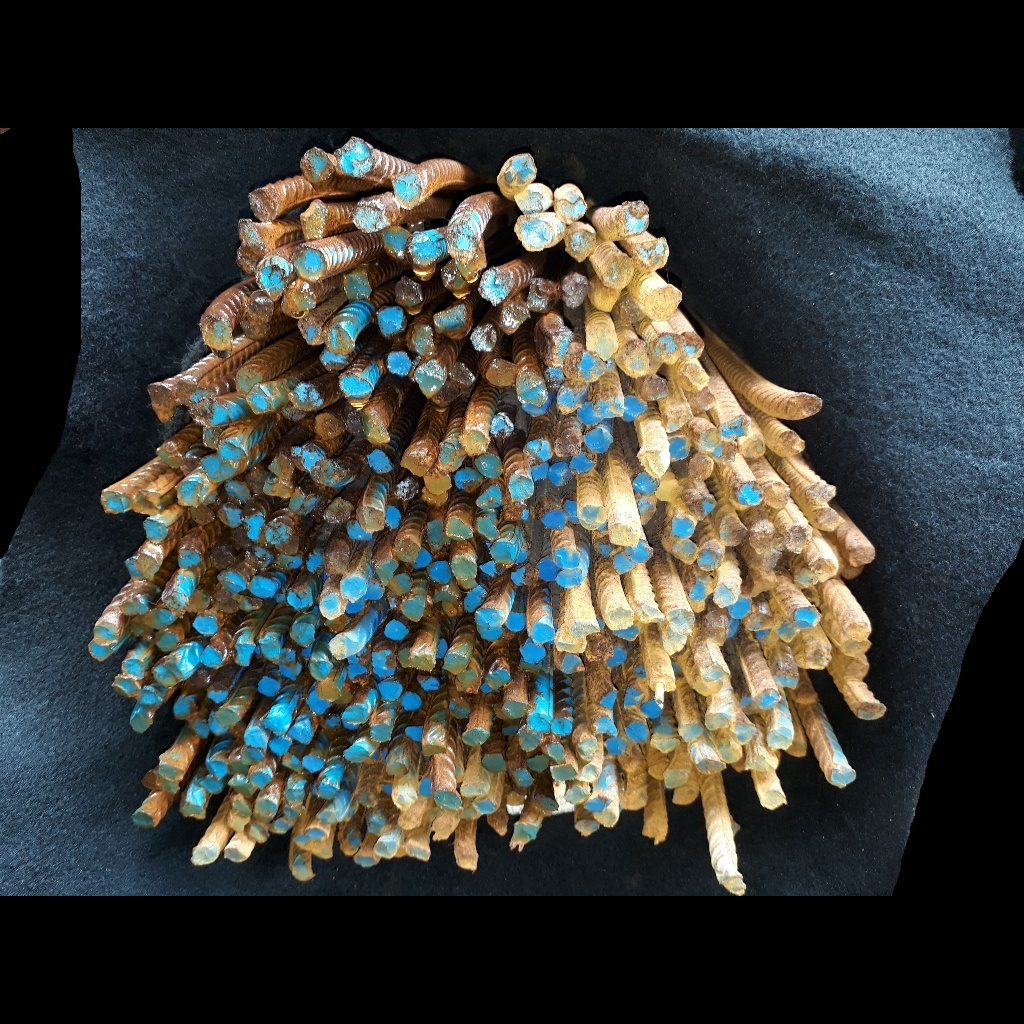dipstick: (513, 214, 554, 252), (335, 137, 373, 176), (291, 246, 329, 283), (351, 199, 390, 232), (235, 218, 268, 257), (478, 266, 510, 306), (405, 230, 440, 266), (414, 361, 448, 398), (564, 224, 597, 262), (390, 173, 423, 211), (298, 199, 328, 240), (147, 382, 176, 423), (602, 253, 634, 290), (513, 183, 549, 215), (256, 265, 288, 301), (399, 445, 436, 476), (289, 381, 326, 412), (795, 641, 833, 671), (249, 184, 279, 222), (563, 352, 602, 381), (636, 239, 670, 272), (300, 147, 334, 180), (547, 327, 575, 366), (310, 459, 349, 487), (650, 332, 684, 364), (455, 250, 487, 284), (498, 304, 531, 336), (433, 303, 467, 334), (359, 410, 390, 444), (382, 224, 410, 261), (652, 286, 682, 320), (525, 278, 554, 313), (717, 514, 748, 546), (504, 153, 537, 183), (440, 261, 470, 294), (636, 450, 670, 479), (199, 455, 234, 483), (289, 486, 320, 517), (375, 305, 405, 337), (748, 520, 777, 553), (435, 438, 464, 471), (284, 282, 318, 310), (202, 320, 232, 351), (585, 332, 618, 360), (702, 611, 729, 645), (562, 272, 588, 307), (338, 373, 373, 399), (325, 325, 355, 355), (296, 316, 325, 347), (246, 384, 274, 416), (591, 281, 620, 311), (559, 191, 588, 221), (247, 293, 276, 323), (583, 635, 614, 663), (485, 359, 517, 386), (322, 497, 354, 524), (718, 415, 751, 441), (679, 362, 708, 391), (394, 277, 423, 306), (620, 203, 650, 231), (616, 295, 646, 323), (446, 233, 476, 261), (217, 439, 247, 467), (624, 340, 650, 372), (263, 475, 297, 499), (784, 525, 812, 554), (668, 608, 696, 637), (448, 362, 477, 390), (344, 272, 373, 300), (338, 576, 367, 604), (747, 546, 779, 571), (470, 324, 498, 352), (554, 428, 581, 457), (517, 381, 547, 407), (583, 428, 614, 453), (328, 635, 359, 660), (151, 660, 182, 685), (763, 482, 791, 509), (451, 553, 478, 581), (299, 443, 326, 471), (364, 807, 391, 835), (793, 391, 822, 417), (459, 430, 488, 456), (687, 494, 717, 519), (99, 490, 130, 514), (813, 508, 845, 531), (411, 324, 434, 356), (319, 348, 351, 371), (313, 413, 345, 436), (672, 539, 699, 566), (579, 504, 606, 531), (319, 592, 347, 618), (187, 398, 213, 426), (155, 443, 183, 469), (131, 489, 159, 515), (430, 382, 459, 407), (423, 470, 452, 495), (356, 507, 385, 532), (337, 827, 362, 856), (217, 568, 247, 592), (806, 480, 837, 503), (661, 409, 692, 432), (247, 576, 279, 598), (679, 333, 706, 359), (641, 375, 668, 401), (777, 430, 805, 455), (235, 248, 260, 276), (603, 607, 632, 631), (609, 522, 638, 546), (285, 585, 314, 609), (633, 603, 666, 624), (622, 541, 653, 563), (854, 701, 888, 721), (642, 820, 668, 846), (577, 400, 604, 425), (308, 687, 333, 714), (268, 453, 295, 478), (175, 481, 200, 508), (696, 547, 724, 571), (474, 454, 502, 478), (434, 786, 462, 810), (464, 585, 488, 613), (365, 450, 393, 474), (372, 649, 396, 677), (733, 482, 762, 505), (445, 516, 474, 539), (228, 774, 257, 797), (592, 396, 622, 418), (474, 607, 504, 629), (688, 455, 714, 480), (490, 412, 515, 438), (386, 351, 411, 377), (290, 623, 316, 648), (142, 518, 167, 544), (848, 543, 875, 567), (813, 555, 837, 582), (240, 514, 264, 541), (142, 609, 176, 628), (842, 658, 870, 681), (659, 631, 687, 654), (392, 539, 420, 562), (111, 676, 140, 698), (263, 521, 293, 542), (622, 396, 647, 421), (509, 475, 534, 500), (476, 484, 501, 509), (174, 695, 199, 720), (425, 520, 451, 544), (217, 503, 243, 527), (162, 591, 186, 617), (93, 623, 119, 647), (695, 427, 718, 454), (632, 472, 659, 495), (528, 623, 555, 646), (391, 786, 418, 809), (207, 710, 230, 737), (692, 677, 723, 697), (711, 441, 739, 463), (750, 572, 778, 594), (454, 468, 482, 490), (134, 553, 156, 581), (245, 547, 274, 568), (568, 619, 600, 638), (239, 319, 271, 338), (791, 606, 821, 626), (712, 583, 737, 607), (553, 654, 583, 674), (406, 838, 431, 862), (568, 450, 594, 473), (721, 871, 747, 894), (554, 546, 580, 569), (474, 517, 500, 540), (426, 560, 452, 583), (386, 573, 412, 596), (375, 559, 398, 585), (315, 679, 341, 702), (325, 553, 351, 576), (224, 479, 250, 502), (510, 822, 537, 844), (393, 478, 420, 500), (346, 519, 373, 541), (210, 590, 237, 612), (136, 687, 163, 709), (556, 635, 587, 654), (594, 536, 622, 557), (259, 715, 287, 736), (130, 711, 154, 735), (526, 438, 551, 461), (258, 636, 281, 661), (667, 436, 689, 462), (655, 481, 681, 503), (543, 367, 565, 393), (549, 460, 571, 486), (489, 541, 515, 563), (454, 670, 480, 692), (441, 653, 467, 675), (397, 806, 423, 828), (842, 637, 872, 656), (830, 767, 857, 788), (773, 668, 800, 689), (518, 642, 545, 663), (431, 817, 455, 840), (233, 642, 256, 666), (121, 657, 145, 680), (519, 727, 541, 752), (373, 839, 398, 861), (384, 619, 409, 641), (304, 547, 326, 572), (274, 533, 299, 555), (245, 470, 270, 492), (635, 499, 656, 525), (526, 714, 552, 735), (484, 667, 510, 688), (236, 372, 262, 393), (86, 641, 112, 662), (754, 689, 781, 709), (759, 791, 787, 810), (342, 744, 370, 763), (176, 379, 195, 407), (199, 644, 222, 667), (742, 436, 766, 458), (576, 735, 598, 759), (409, 546, 431, 570), (273, 646, 297, 668), (186, 590, 210, 612), (129, 615, 153, 637), (718, 742, 743, 763), (536, 560, 561, 581), (542, 509, 567, 530), (378, 680, 403, 701), (266, 736, 291, 757), (189, 503, 214, 524), (520, 398, 549, 416), (501, 504, 530, 522), (420, 487, 449, 505), (744, 611, 770, 631), (649, 674, 675, 694), (619, 754, 645, 774), (481, 752, 507, 772), (324, 614, 350, 634), (689, 390, 716, 409), (794, 684, 817, 706), (613, 552, 636, 574), (622, 686, 645, 708), (511, 564, 533, 587), (289, 723, 311, 746), (727, 598, 751, 619), (640, 697, 664, 718), (671, 787, 699, 805), (593, 715, 617, 736), (501, 700, 529, 718), (463, 727, 491, 745), (253, 799, 277, 820), (202, 427, 223, 451), (211, 546, 235, 567), (688, 579, 713, 599), (624, 722, 649, 742), (594, 808, 619, 828), (277, 661, 302, 681), (226, 812, 251, 832), (650, 737, 681, 753), (340, 705, 366, 724), (239, 747, 265, 766), (192, 616, 218, 635), (701, 664, 730, 681), (274, 553, 303, 570), (564, 785, 591, 803), (180, 453, 202, 475), (734, 725, 757, 746), (399, 600, 422, 621), (257, 676, 280, 697), (696, 758, 726, 774), (671, 518, 695, 538), (548, 764, 578, 780), (309, 660, 333, 680), (612, 625, 640, 642), (554, 571, 582, 588), (476, 624, 504, 641), (157, 765, 185, 782), (663, 769, 688, 788), (574, 818, 599, 837), (409, 653, 434, 672), (301, 754, 326, 773), (346, 663, 371, 682), (745, 754, 771, 772), (480, 559, 506, 577), (583, 796, 612, 812), (776, 620, 797, 642), (231, 525, 252, 547), (206, 758, 228, 779), (231, 797, 253, 818), (788, 736, 808, 759), (526, 754, 549, 774), (205, 683, 228, 703), (767, 731, 791, 750), (575, 763, 599, 782), (384, 762, 408, 781), (368, 722, 392, 741), (353, 788, 377, 807), (793, 570, 818, 588), (679, 723, 704, 741), (345, 410, 363, 435), (190, 847, 215, 865), (199, 776, 224, 794), (120, 599, 148, 615), (214, 709, 240, 726), (154, 631, 180, 648), (606, 646, 627, 667), (849, 619, 871, 639), (486, 807, 508, 827), (247, 823, 269, 843), (511, 768, 534, 787), (383, 506, 402, 529), (178, 548, 201, 567), (705, 712, 729, 730), (244, 731, 268, 749), (535, 795, 560, 812), (223, 846, 248, 863), (598, 688, 618, 709), (504, 612, 526, 631), (249, 770, 271, 789), (140, 770, 162, 789), (238, 595, 264, 611), (623, 793, 646, 811), (416, 673, 439, 691), (280, 405, 307, 420), (290, 865, 315, 881), (400, 692, 421, 711), (281, 753, 302, 772), (604, 737, 626, 755), (456, 853, 478, 871), (294, 834, 317, 851), (562, 500, 578, 524), (647, 762, 668, 780), (129, 812, 154, 827), (422, 742, 448, 756), (546, 743, 565, 762), (472, 798, 496, 813), (363, 582, 383, 600), (192, 719, 210, 739), (551, 718, 572, 735), (506, 789, 528, 805), (353, 852, 378, 866), (269, 818, 292, 833), (432, 590, 458, 603), (189, 388, 215, 401), (519, 658, 543, 672), (441, 601, 463, 616), (460, 783, 485, 796), (405, 725, 423, 743), (315, 809, 338, 823), (282, 804, 305, 818), (319, 785, 339, 801), (725, 617, 740, 638), (284, 788, 305, 803), (532, 462, 548, 481), (345, 598, 365, 613), (305, 827, 328, 840), (313, 844, 334, 858), (419, 778, 433, 798), (180, 802, 203, 814), (435, 638, 448, 659), (502, 720, 519, 736), (335, 688, 352, 704), (461, 806, 479, 821), (687, 599, 706, 613), (228, 761, 248, 774), (160, 781, 180, 794), (398, 647, 409, 669), (324, 714, 341, 728), (634, 665, 649, 677), (457, 579, 477, 588)
